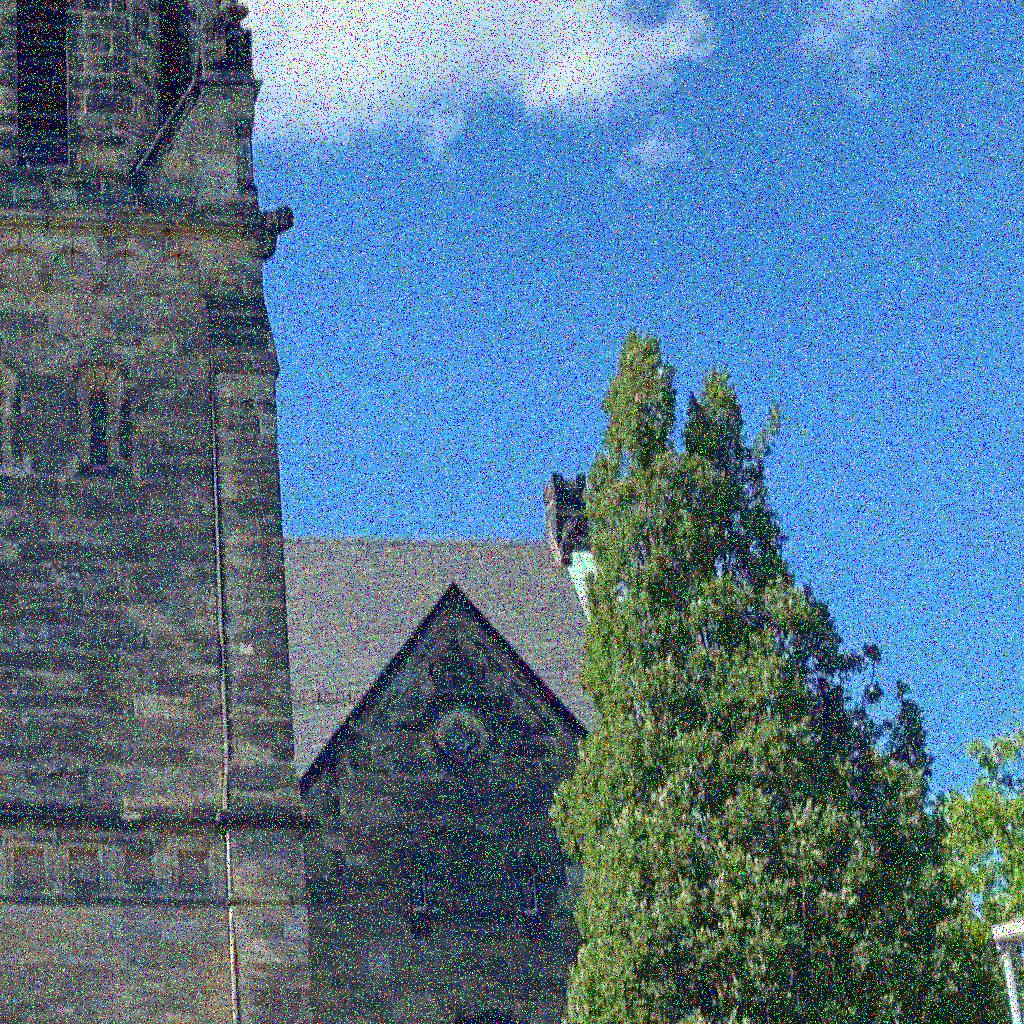tree: (547, 330, 1010, 1023), (936, 730, 1024, 991)
